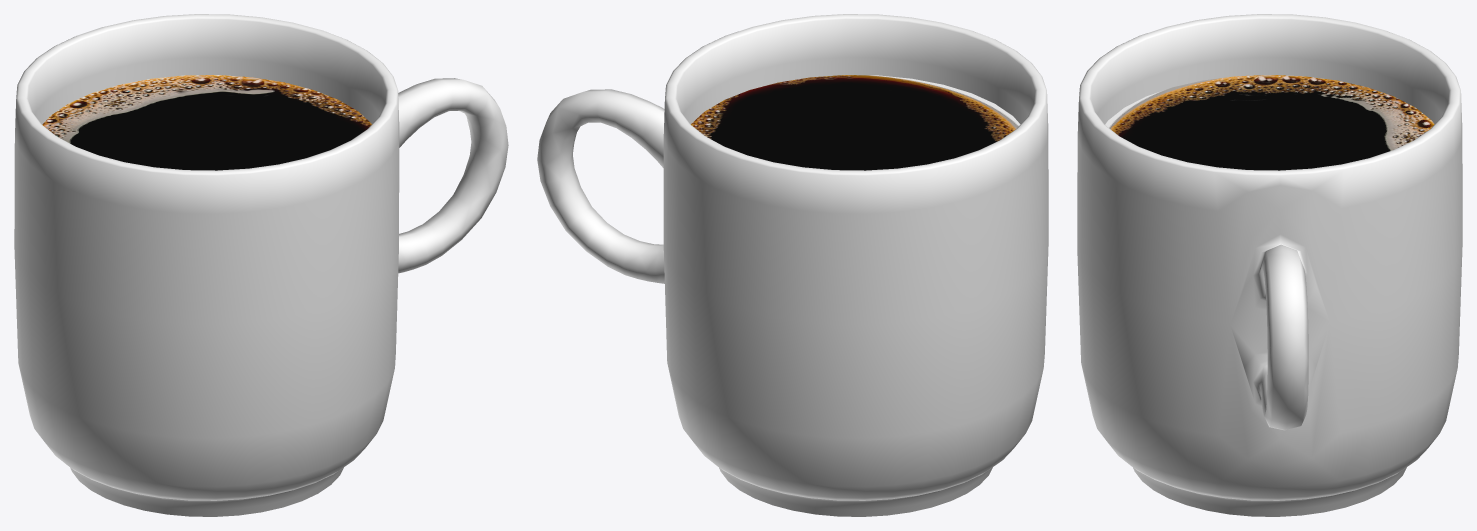
Rendered from Coffee cup 3.fbx.
The picture shows the model from 3 angles, left to right: view 1: azimuth 30°, elevation 25°; view 2: azimuth 150°, elevation 25°; view 3: azimuth 270°, elevation 25°; orthographic projection.
Visible parts, largest first — view 1: Coffee cup 3, Black coffee; view 2: Coffee cup 3, Black coffee; view 3: Coffee cup 3, Black coffee.
Part boxes in pixels (x1=…): Coffee cup 3: x1=14, y1=14, x2=508, y2=516; Black coffee: x1=42, y1=75, x2=371, y2=170; Coffee cup 3: x1=537, y1=14, x2=1048, y2=516; Black coffee: x1=691, y1=75, x2=1020, y2=170; Coffee cup 3: x1=1077, y1=14, x2=1462, y2=516; Black coffee: x1=1105, y1=75, x2=1434, y2=170.
Bounding box in the file's own units: 8.6 × 6.34 × 6.07.
1 material, 1 textured.
